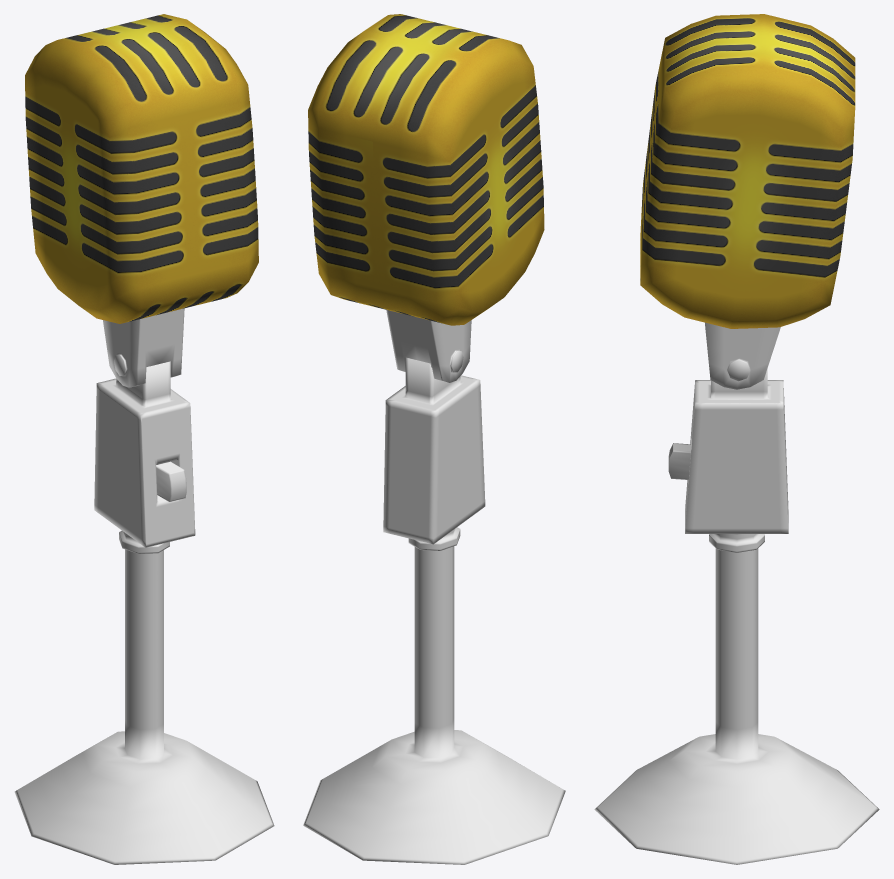
Rendered from microphone.fbx.
The picture shows the model from 3 angles, left to right: view 1: azimuth 30°, elevation 25°; view 2: azimuth 150°, elevation 25°; view 3: azimuth 270°, elevation 25°; orthographic projection.
Parts seen in each view (by area): view 1: Cube, Cube.002, Cube.001; view 2: Cube, Cube.002, Cube.001; view 3: Cube, Cube.002, Cube.001.
Part boxes in pixels (bbox=[...]): Cube: bbox=[25, 14, 258, 323]; Cube.002: bbox=[14, 361, 274, 864]; Cube.001: bbox=[103, 308, 184, 387]; Cube: bbox=[308, 14, 544, 325]; Cube.002: bbox=[303, 357, 565, 864]; Cube.001: bbox=[386, 310, 471, 382]; Cube: bbox=[640, 14, 855, 328]; Cube.002: bbox=[594, 368, 879, 864]; Cube.001: bbox=[705, 322, 780, 389].
Size of the model in its own units: 2.91 by 9.43 by 3.16.
